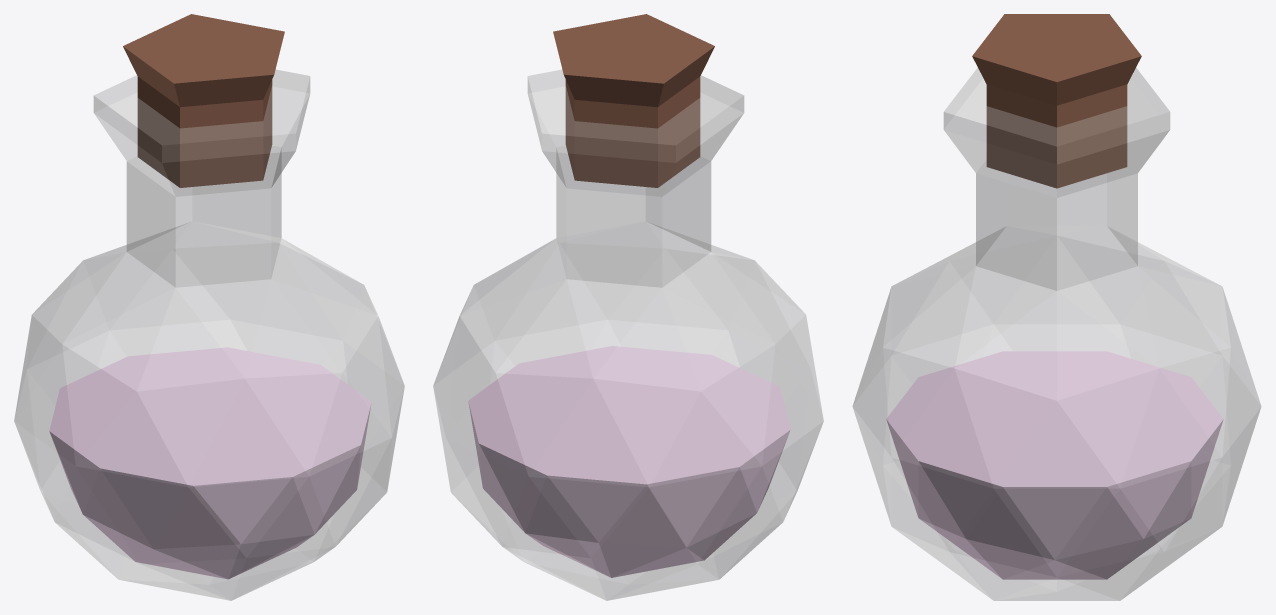
File: potion_bottle.fbx
3 views of the same model, side by side, from view 1: azimuth 30°, elevation 25°; view 2: azimuth 150°, elevation 25°; view 3: azimuth 270°, elevation 25° (orthographic). The views are drawn at different scales.
Visible parts, largest first — view 1: Potion Bottle, Potion, Cork; view 2: Potion Bottle, Potion, Cork; view 3: Potion Bottle, Potion, Cork.
Part boxes in pixels (box(x1,y1,x2,y2)): Potion Bottle: box(14, 69, 404, 600); Potion: box(49, 347, 371, 579); Cork: box(123, 14, 284, 187); Potion Bottle: box(433, 69, 823, 600); Potion: box(468, 346, 790, 577); Cork: box(553, 14, 714, 187); Potion Bottle: box(852, 67, 1261, 600); Potion: box(886, 351, 1223, 579); Cork: box(972, 14, 1141, 188).
Size of the model in its own units: 19.31 by 29.97 by 20.3.
